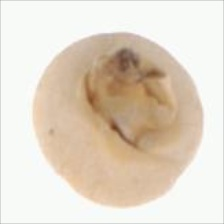L3: (86, 50, 171, 153)
L4: (32, 32, 204, 207)
